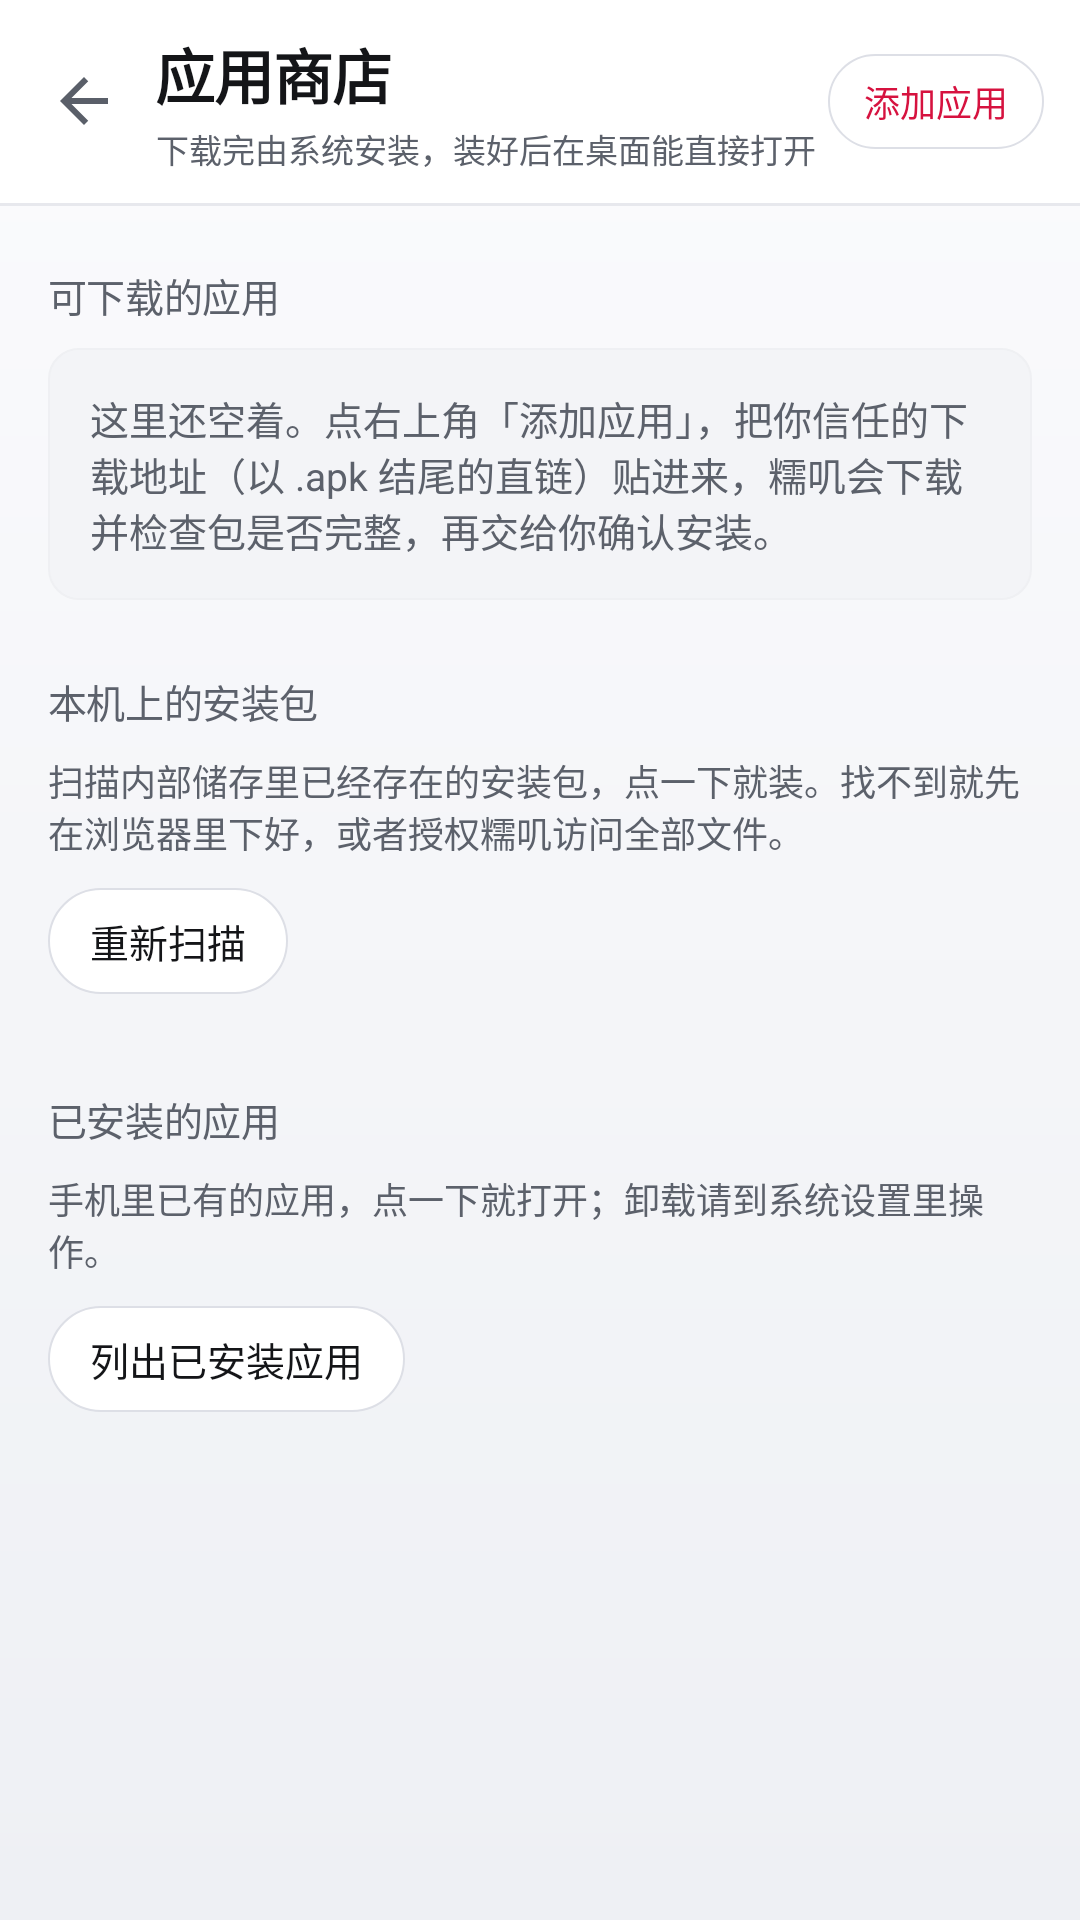

Screen size 1080px x 1920px. Icon name, then its center in pixels as (x=x, y=y):
返回: (x=84, y=101)
